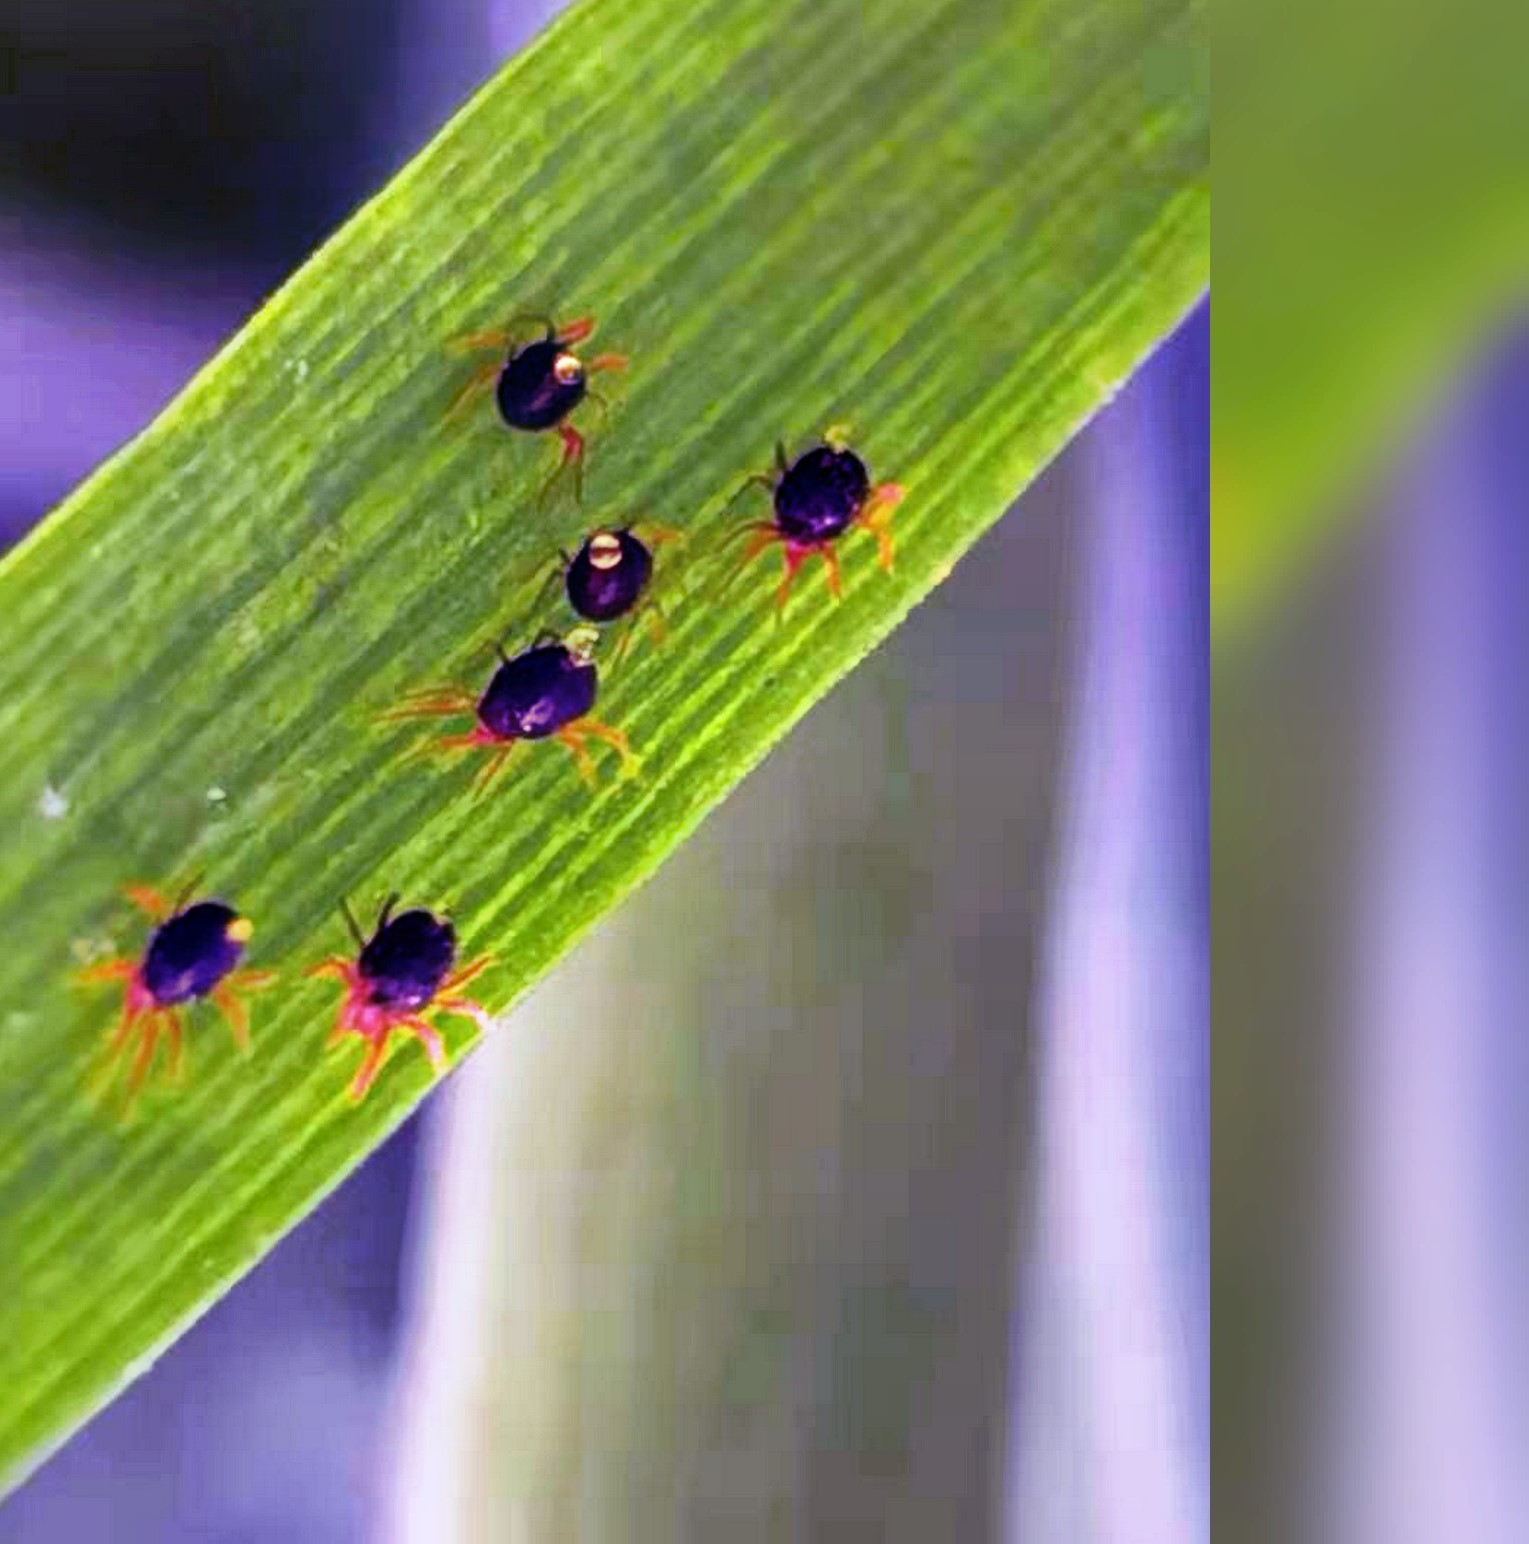Wheat Red Spider: (57, 848, 515, 1127)
